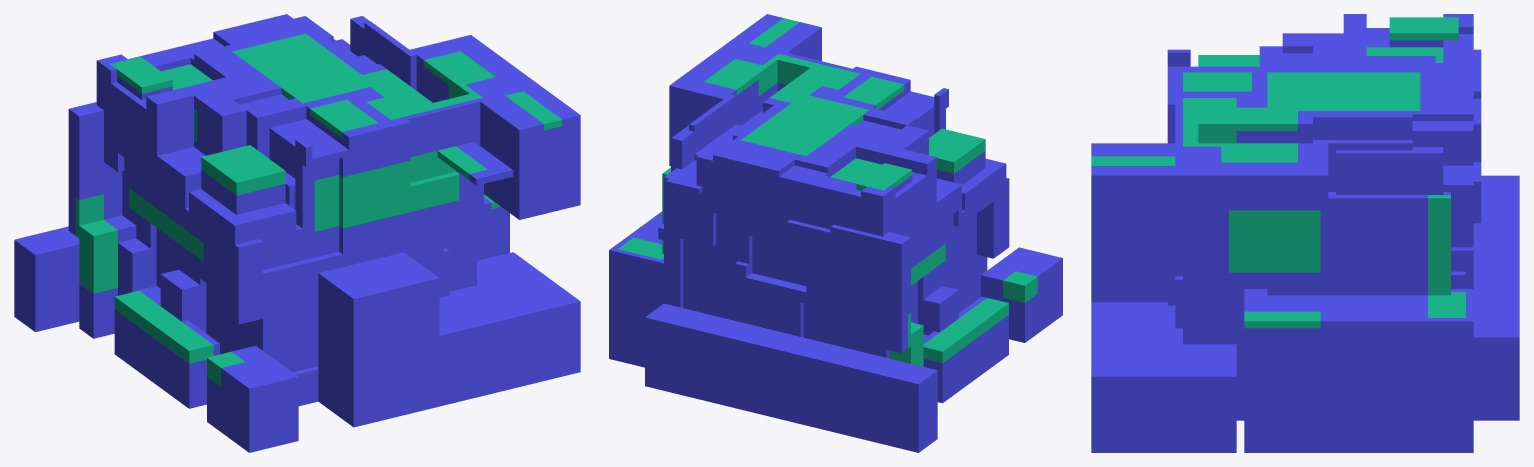
Rendered from Rook.obj.
3 renders of one model, left to right at view 1: azimuth 30°, elevation 25°; view 2: azimuth 150°, elevation 25°; view 3: azimuth 270°, elevation 25°, orthographic. The views are drawn at different scales.
Bounding box in the file's own units: 6 × 4 × 5.6.
Materials: 1 (1 with a texture image).
